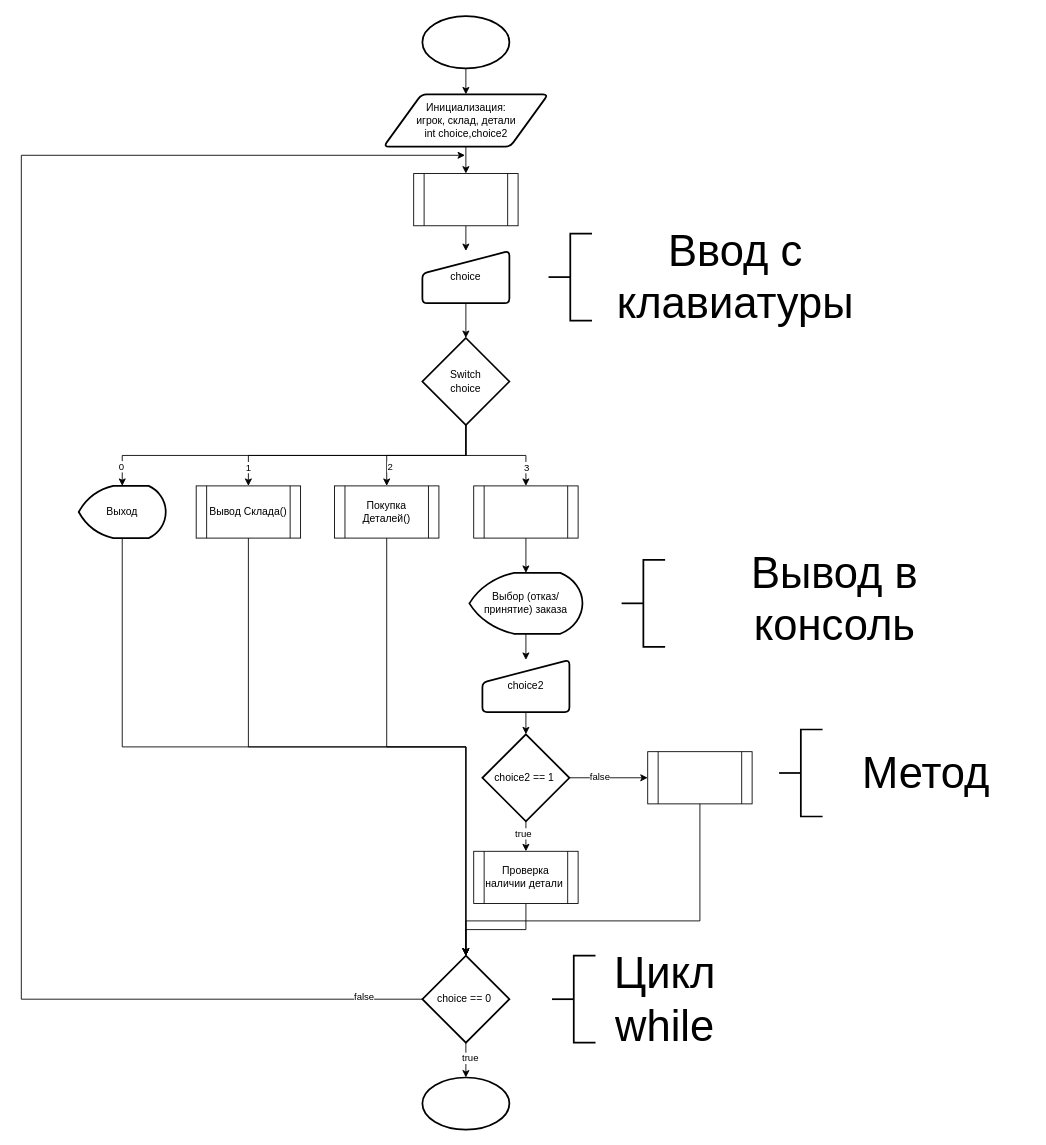
This 1046x1145 diagram has some shape labels left out. The shapes that lost their labels are listed below. From the top down, each one's centre as x and y in pixels, then its label:
At (465,42): "Начало".
At (465,199): "Вывод меню()".
At (525,511): "Работа с заказом".
At (699,777): "Выдача штрафа за отказ".
At (465,1103): "Конец".
